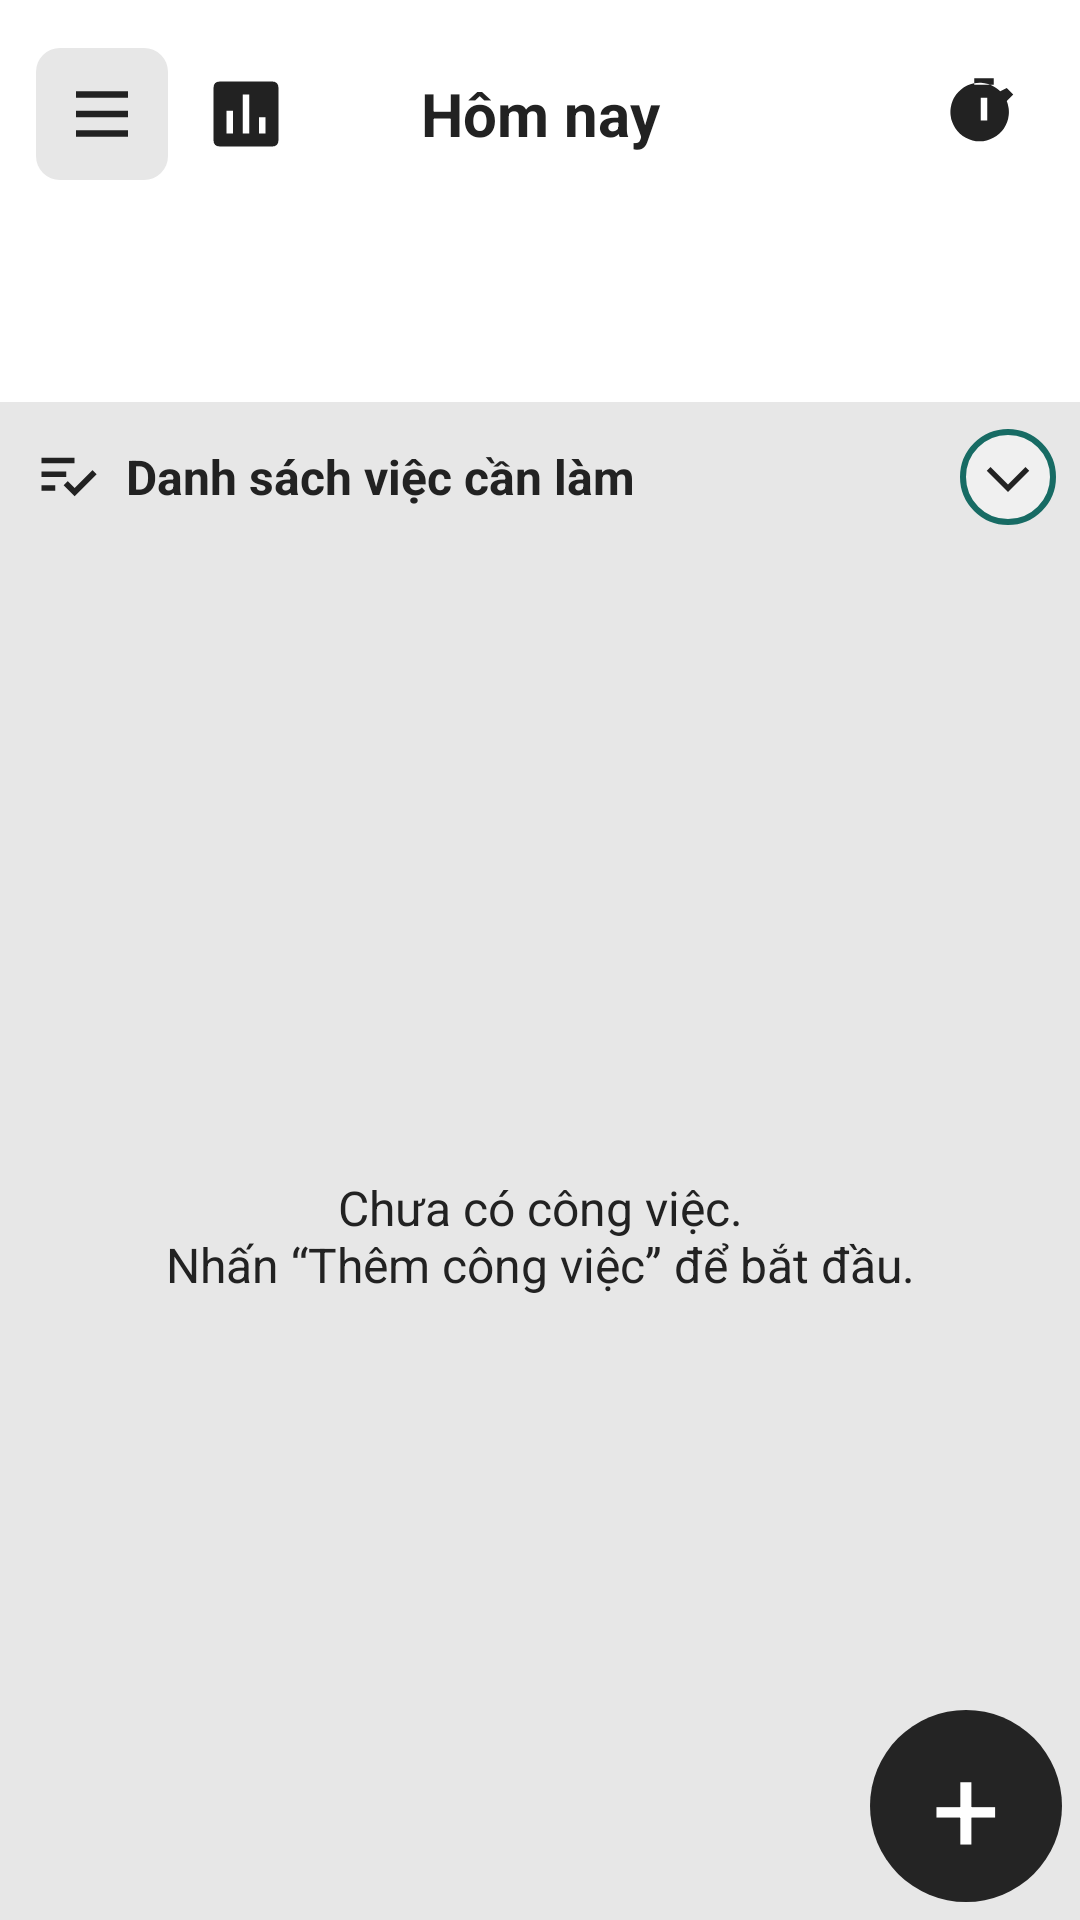

Named icons in this screenshot (1080x1920) and their bounding boxes, (x1, y1, x2, y2):
Báo cáo thói quen: (213, 81, 279, 147)
Bộ hẹn giờ: (950, 78, 1013, 142)
checklist: (41, 457, 97, 496)
Quản lý danh sách / bộ lọc: (36, 48, 168, 180)
Thu gọn / mở danh sách: (960, 429, 1056, 525)
